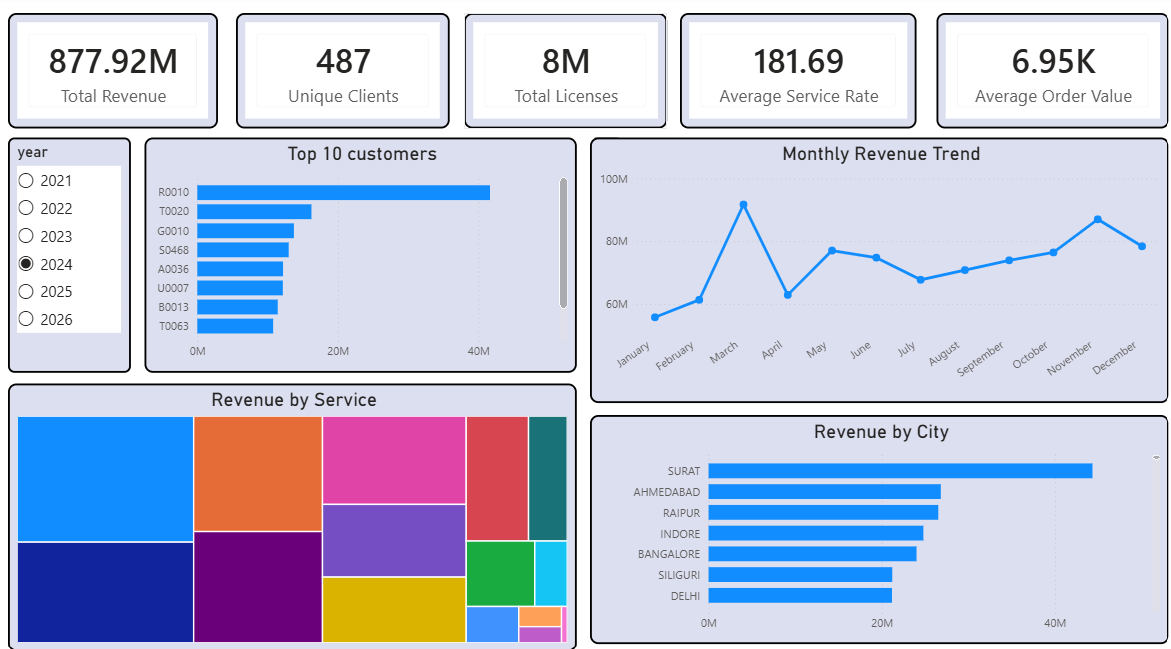

The page's visual inventory and layout, read from the dashboard file:
{"tool":"powerbi","page":{"name":"Business Overview","canvas":[1280,720],"ordinal":0},"visuals":[{"type":"listSlicer","fields":{"Values":["forecast_sales_data.year"]},"box":[13,153.8,132.8,254.2],"z":0},{"type":"cardVisual","fields":{"Data":["DateTable.Total Revenue"]},"box":[13.2,18.9,226.8,124.7],"z":1000},{"type":"cardVisual","fields":{"Data":["DateTable.Unique Clients"]},"box":[258.9,18.9,230.6,124.7],"z":2000},{"type":"cardVisual","fields":{"Data":["DateTable.Total Licenses"]},"box":[504.6,18.9,219.2,124.7],"z":3000},{"type":"cardVisual","fields":{"Data":["DateTable.Average Service Rate"]},"box":[738.9,18.9,255.1,124.7],"z":4000},{"type":"cardVisual","fields":{"Data":["DateTable.Average Order Value"]},"box":[1014.8,18.9,251.3,124.7],"z":5000},{"type":"lineChart","title":"Monthly Revenue Trend","fields":{"Category":["forecast_sales_data.Month"],"Y":["Sum(forecast_sales_data.Total_Bill)"]},"box":[641.2,153.8,625,286.6],"z":6000},{"type":"clusteredBarChart","title":"Revenue by City","fields":{"Category":["forecast_sales_data.Client City"],"Y":["Sum(forecast_sales_data.Total_Bill)"]},"box":[640.6,453.5,625.5,247.6],"z":7000},{"type":"clusteredBarChart","title":"Top 10 customers","fields":{"Category":["forecast_sales_data.Client_ID"],"Y":["Sum(forecast_sales_data.Total_Bill)"]},"box":[160.3,153.8,466.3,254.2],"z":8000},{"type":"treemap","title":"Revenue by Service","fields":{"Group":["forecast_sales_data.Service Code"],"Values":["Sum(forecast_sales_data.Total_Bill)"]},"box":[13,419.4,613.7,289.8],"z":9000}]}

Visuals, with their boxes in screenshot pixels (x1, y1, x2, y2), scaled from the page's 1280x720 canvas onto the 1171x649 screenshot:
listSlicer - forecast_sales_data.year: x1=12 y1=139 x2=133 y2=368
cardVisual - DateTable.Total Revenue: x1=12 y1=17 x2=220 y2=129
cardVisual - DateTable.Unique Clients: x1=237 y1=17 x2=448 y2=129
cardVisual - DateTable.Total Licenses: x1=462 y1=17 x2=662 y2=129
cardVisual - DateTable.Average Service Rate: x1=676 y1=17 x2=909 y2=129
cardVisual - DateTable.Average Order Value: x1=928 y1=17 x2=1158 y2=129
"Monthly Revenue Trend" lineChart: x1=587 y1=139 x2=1158 y2=397
"Revenue by City" clusteredBarChart: x1=586 y1=409 x2=1158 y2=632
"Top 10 customers" clusteredBarChart: x1=147 y1=139 x2=573 y2=368
"Revenue by Service" treemap: x1=12 y1=378 x2=573 y2=639
